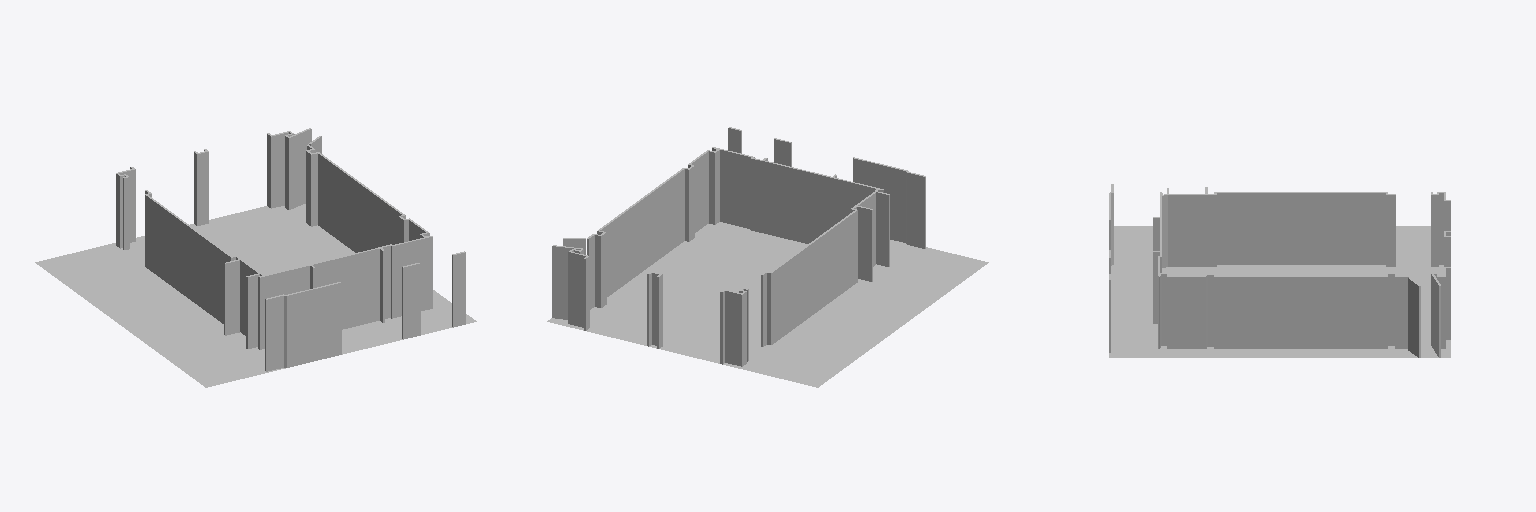
The model's file is rdc.obj.
The picture shows the model from 3 angles: view 1: azimuth 30°, elevation 25°; view 2: azimuth 150°, elevation 25°; view 3: azimuth 270°, elevation 25°; orthographic projection.
Visible parts, largest first — view 1: ground_1, wall_3_17, wall_18_107, wall_49_293, wall_52_311, wall_45_269, wall_50_299, wall_47_281, wall_10_59, wall_27_160, wall_6_34, wall_41_245 (+4 smaller); view 2: ground_1, wall_3_17, wall_18_107, wall_52_310, wall_49_292, wall_27_161, wall_47_280, wall_35_208, wall_45_268, wall_41_244, wall_6_35, wall_22_131 (+3 smaller); view 3: ground_1, wall_18_106, wall_3_16, wall_22_130, wall_13_76, wall_14_82, wall_46_275, wall_5_28, wall_1_4, wall_45_269, wall_32_191.
Boxes of the visible parts, x1,y1,x2,y2 form: ground_1: [35, 204, 476, 387]; wall_3_17: [145, 195, 230, 323]; wall_18_107: [318, 154, 401, 252]; wall_49_293: [287, 283, 341, 367]; wall_52_311: [313, 249, 379, 329]; wall_45_269: [289, 129, 311, 209]; wall_50_299: [403, 263, 420, 339]; wall_47_281: [266, 296, 283, 371]; wall_10_59: [259, 268, 300, 349]; wall_27_160: [392, 240, 418, 318]; wall_6_34: [225, 260, 239, 335]; wall_41_245: [271, 132, 288, 208]; ground_1: [547, 222, 988, 387]; wall_3_17: [771, 210, 857, 344]; wall_18_107: [600, 169, 684, 296]; wall_52_310: [763, 161, 831, 243]; wall_49_292: [853, 158, 905, 242]; wall_27_161: [726, 151, 750, 228]; wall_47_280: [907, 173, 925, 248]; wall_35_208: [725, 291, 741, 366]; wall_45_268: [552, 246, 580, 319]; wall_41_244: [568, 252, 585, 327]; wall_6_35: [857, 207, 872, 281]; wall_22_131: [692, 151, 708, 232]; ground_1: [1109, 226, 1450, 357]; wall_18_106: [1214, 277, 1387, 348]; wall_3_16: [1217, 193, 1385, 264]; wall_22_130: [1167, 277, 1205, 348]; wall_13_76: [1168, 195, 1206, 266]; wall_14_82: [1395, 277, 1408, 348]; wall_46_275: [1408, 278, 1419, 357]; wall_5_28: [1205, 195, 1216, 266]; wall_1_4: [1386, 195, 1395, 266]; wall_45_269: [1431, 274, 1439, 357]; wall_32_191: [1431, 195, 1438, 266].
Size of the model in its own units: 983 by 250 by 1076.